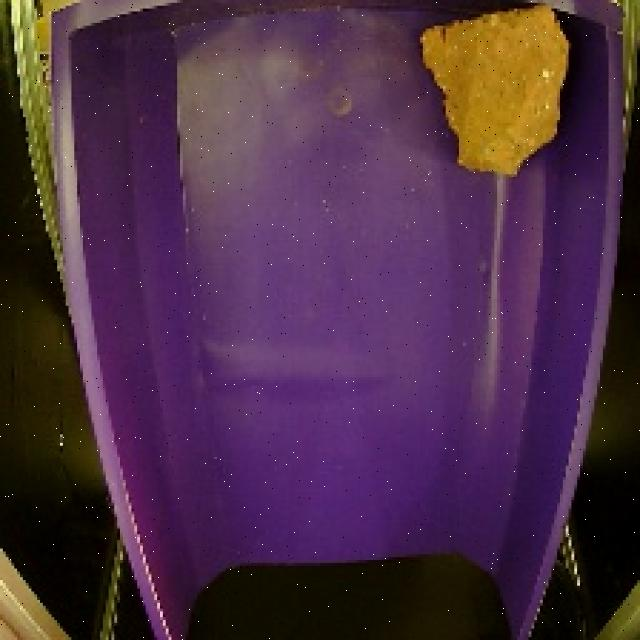brick: (411, 0, 577, 183)
